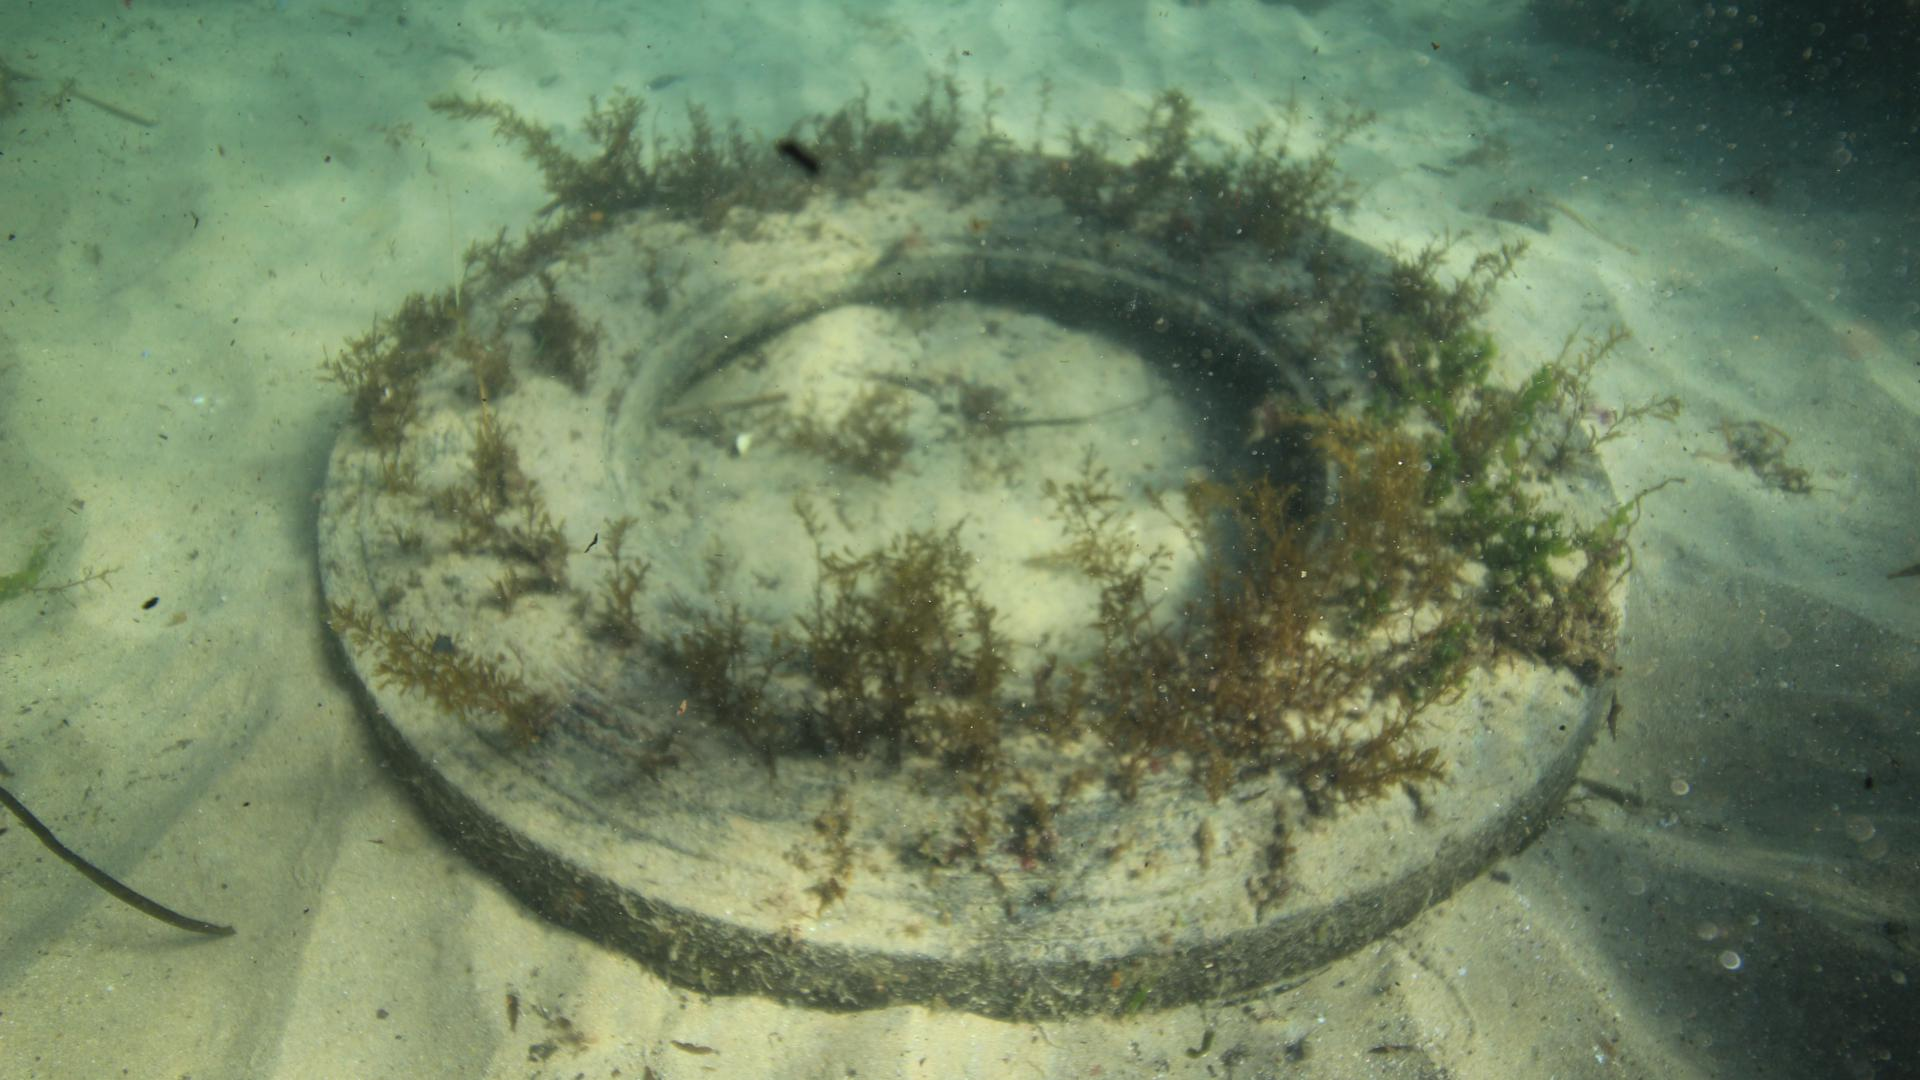tire: (316, 146, 1630, 1022)
